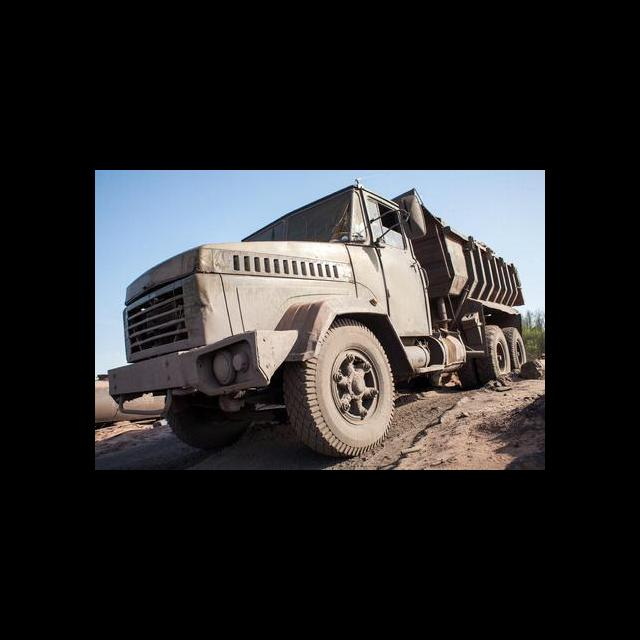dump truck: (108, 179, 528, 463)
